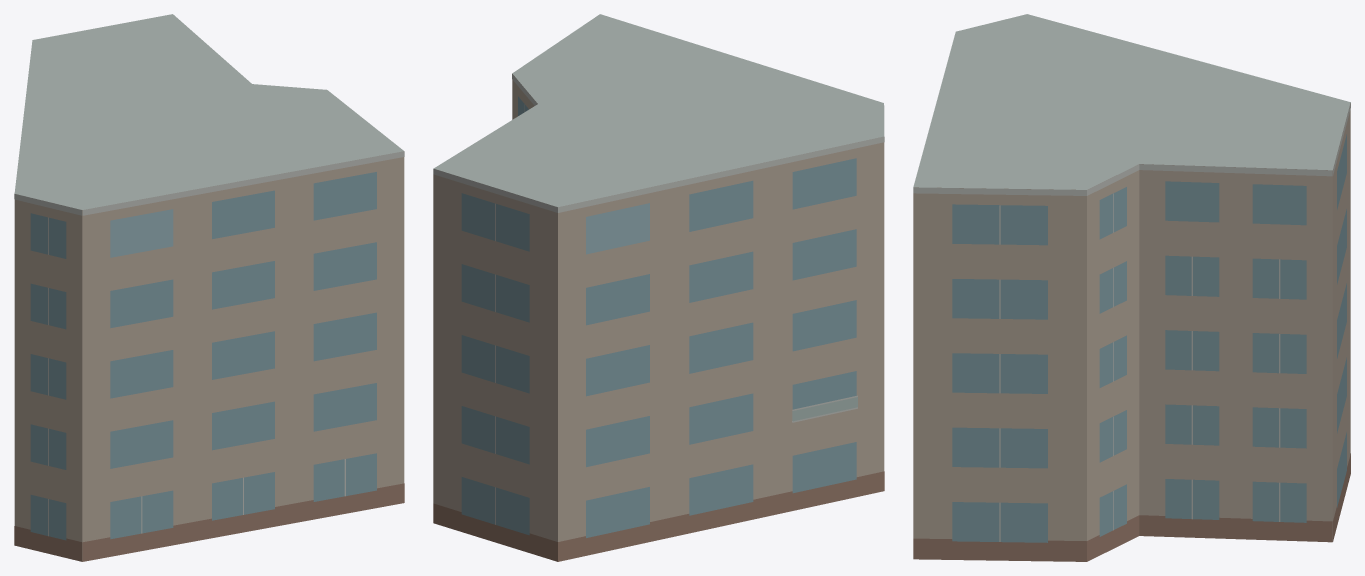
File: survey-upis-32880624.glb
The picture shows the model from 3 angles, left to right: view 1: azimuth 30°, elevation 25°; view 2: azimuth 150°, elevation 25°; view 3: azimuth 270°, elevation 25°; orthographic projection. The views are drawn at different scales.
Visible parts, largest first — view 1: survey-upis-32880624.tmp; view 2: survey-upis-32880624.tmp; view 3: survey-upis-32880624.tmp.
Boxes of the visible parts, box(x1,y1,x2,y2) form: survey-upis-32880624.tmp: box(14, 14, 404, 561); survey-upis-32880624.tmp: box(433, 14, 884, 561); survey-upis-32880624.tmp: box(913, 14, 1350, 561).
Size of the model in its own units: 15.18 by 14.95 by 15.95.
